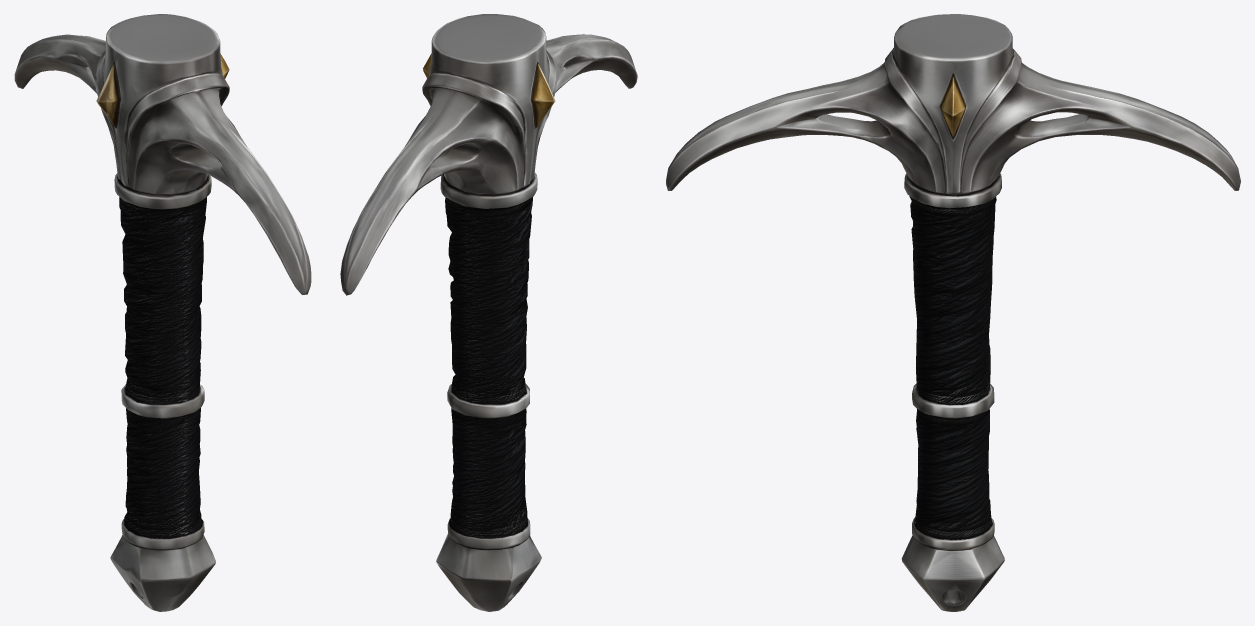
Rendered from hilt_wayfarer.glb.
3 views of the same model, side by side, from view 1: azimuth 30°, elevation 25°; view 2: azimuth 150°, elevation 25°; view 3: azimuth 270°, elevation 25° (orthographic).
Parts seen in each view (by area): view 1: tripo_node_6d3c1dc1-d4fe-426c-873e-7f7f9d812a67; view 2: tripo_node_6d3c1dc1-d4fe-426c-873e-7f7f9d812a67; view 3: tripo_node_6d3c1dc1-d4fe-426c-873e-7f7f9d812a67.
Part boxes in pixels (x1,y1,x2,y2): tripo_node_6d3c1dc1-d4fe-426c-873e-7f7f9d812a67: [14, 14, 311, 611]; tripo_node_6d3c1dc1-d4fe-426c-873e-7f7f9d812a67: [340, 14, 637, 611]; tripo_node_6d3c1dc1-d4fe-426c-873e-7f7f9d812a67: [666, 14, 1240, 611].
Bounding box in the file's own units: 0.2419 × 1 × 0.9103.
Materials: 1 (1 with a texture image).
